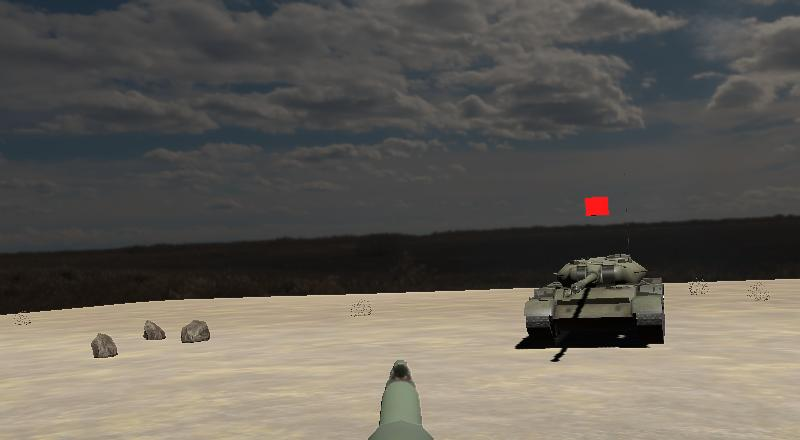Tank: (521, 243, 670, 352)
